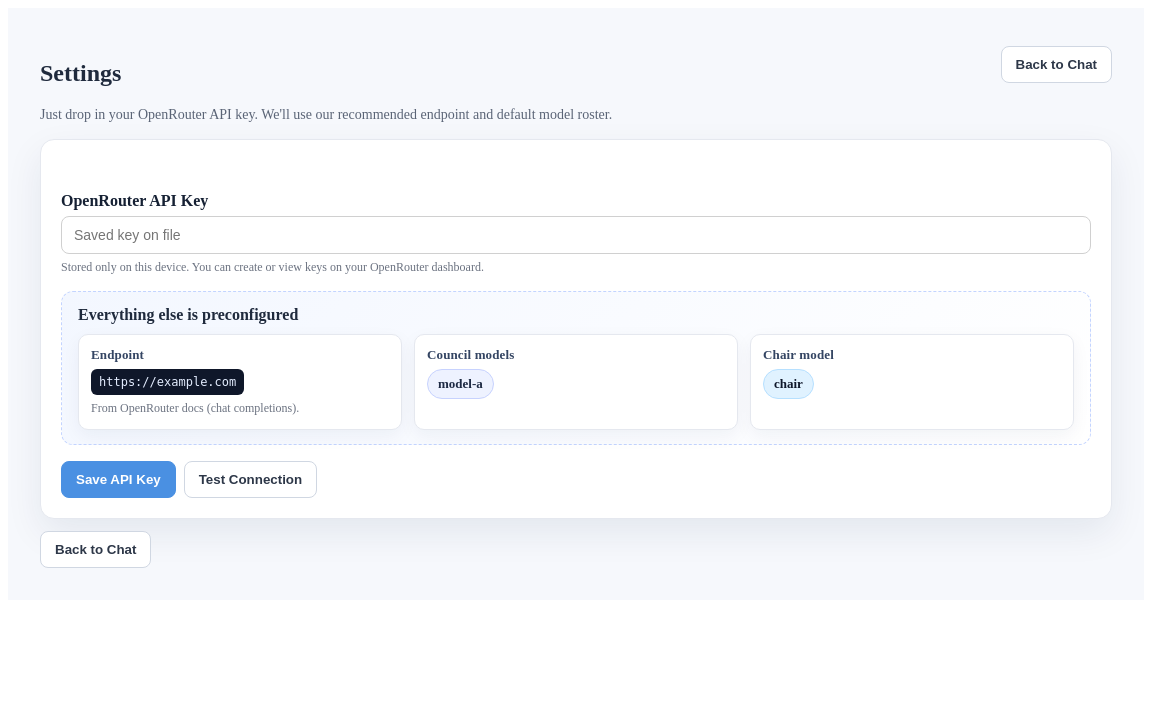
it: Settings › saves settings with new key and clears the field
The image size is (1152, 720).
Check: the text "https://example.com" is shown, box x1=91 y1=369 x2=244 y2=395
Type "sk-newkey" into the password field labelled "OpenRouter API Key".
click(576, 235); type("sk-newkey")  # box x1=61 y1=216 x2=1091 y2=254
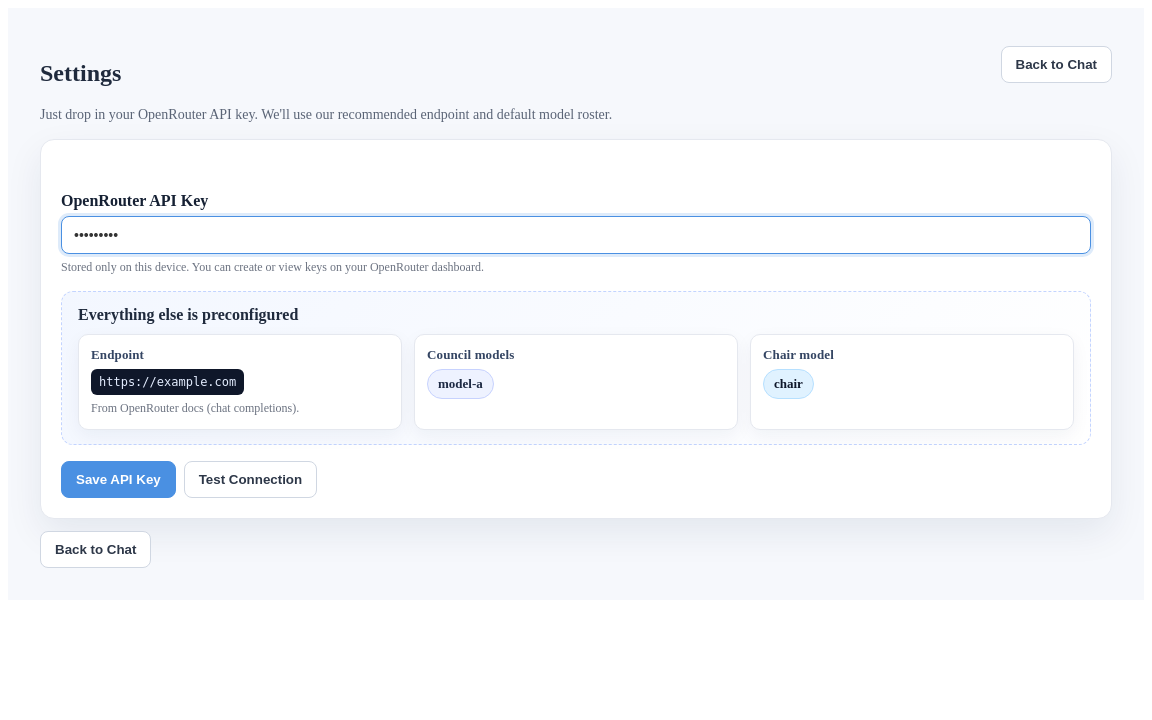
Click the button "Save API Key".
click(118, 479)  # box x1=61 y1=461 x2=176 y2=498
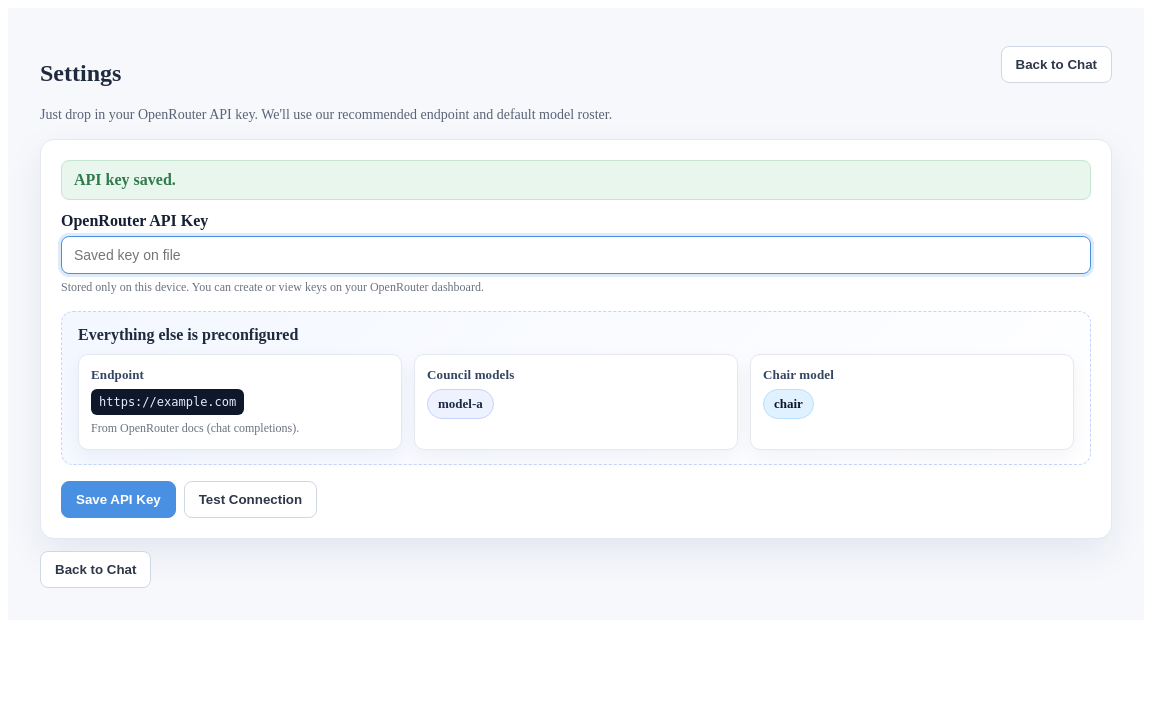
Check: the password field labelled "OpenRouter API Key" is empty, box x1=61 y1=236 x2=1091 y2=274
Check: the text "API key saved." is shown, box x1=61 y1=160 x2=1091 y2=200
